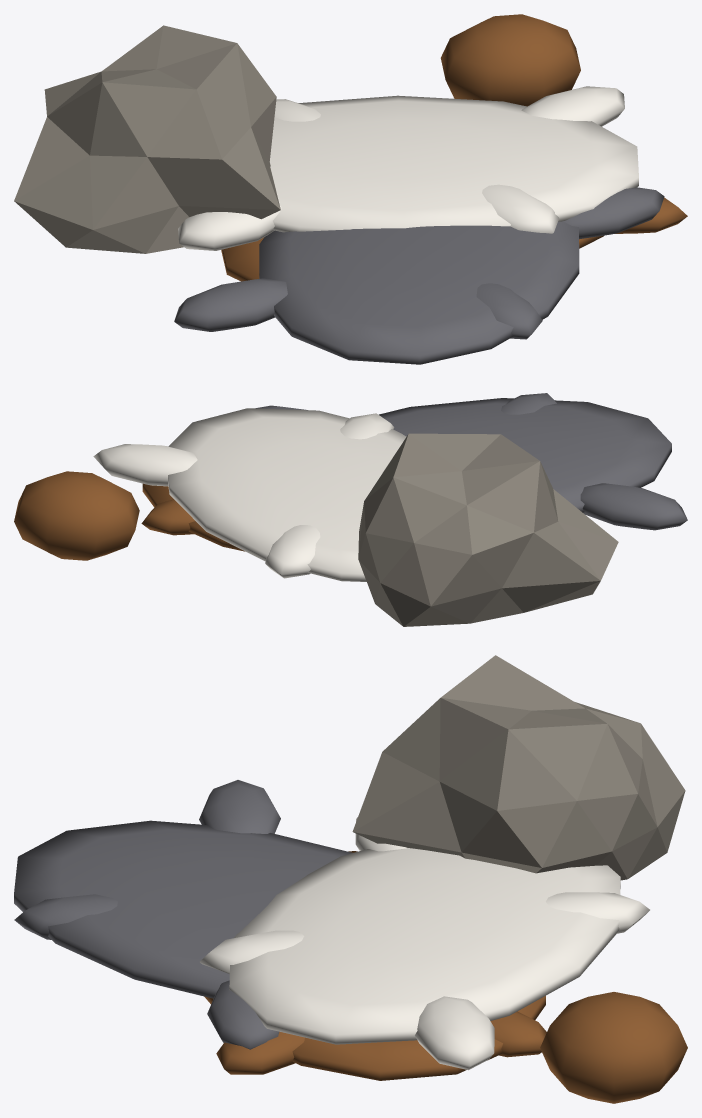
The model's file is resource_furs.fbx.
The picture shows the model from 3 angles, top to bottom: view 1: azimuth 30°, elevation 25°; view 2: azimuth 150°, elevation 25°; view 3: azimuth 270°, elevation 25°; orthographic projection. The views are drawn at different scales.
Visible parts, largest first — view 1: resource_furs_pelt2_02, resource_furs_pelt3_03, resource_furs_rock#8a847a_00, resource_furs_pelt_01; view 2: resource_furs_rock#8a847a_00, resource_furs_pelt2_02, resource_furs_pelt3_03, resource_furs_pelt_01; view 3: resource_furs_pelt2_02, resource_furs_rock#8a847a_00, resource_furs_pelt3_03, resource_furs_pelt_01.
Boxes of the visible parts, x1=… form: resource_furs_pelt2_02: x1=178, y1=86, x2=638, y2=250; resource_furs_pelt3_03: x1=174, y1=187, x2=664, y2=364; resource_furs_rock#8a847a_00: x1=14, y1=25, x2=280, y2=253; resource_furs_pelt_01: x1=221, y1=14, x2=687, y2=281; resource_furs_rock#8a847a_00: x1=358, y1=433, x2=618, y2=626; resource_furs_pelt2_02: x1=93, y1=408, x2=406, y2=581; resource_furs_pelt3_03: x1=255, y1=393, x2=687, y2=530; resource_furs_pelt_01: x1=14, y1=471, x2=244, y2=560; resource_furs_pelt2_02: x1=200, y1=817, x2=649, y2=1070; resource_furs_rock#8a847a_00: x1=352, y1=655, x2=685, y2=880; resource_furs_pelt3_03: x1=14, y1=780, x2=352, y2=1049; resource_furs_pelt_01: x1=204, y1=851, x2=687, y2=1103.
Size of the model in its own units: 92.8 by 25.77 by 82.02.
